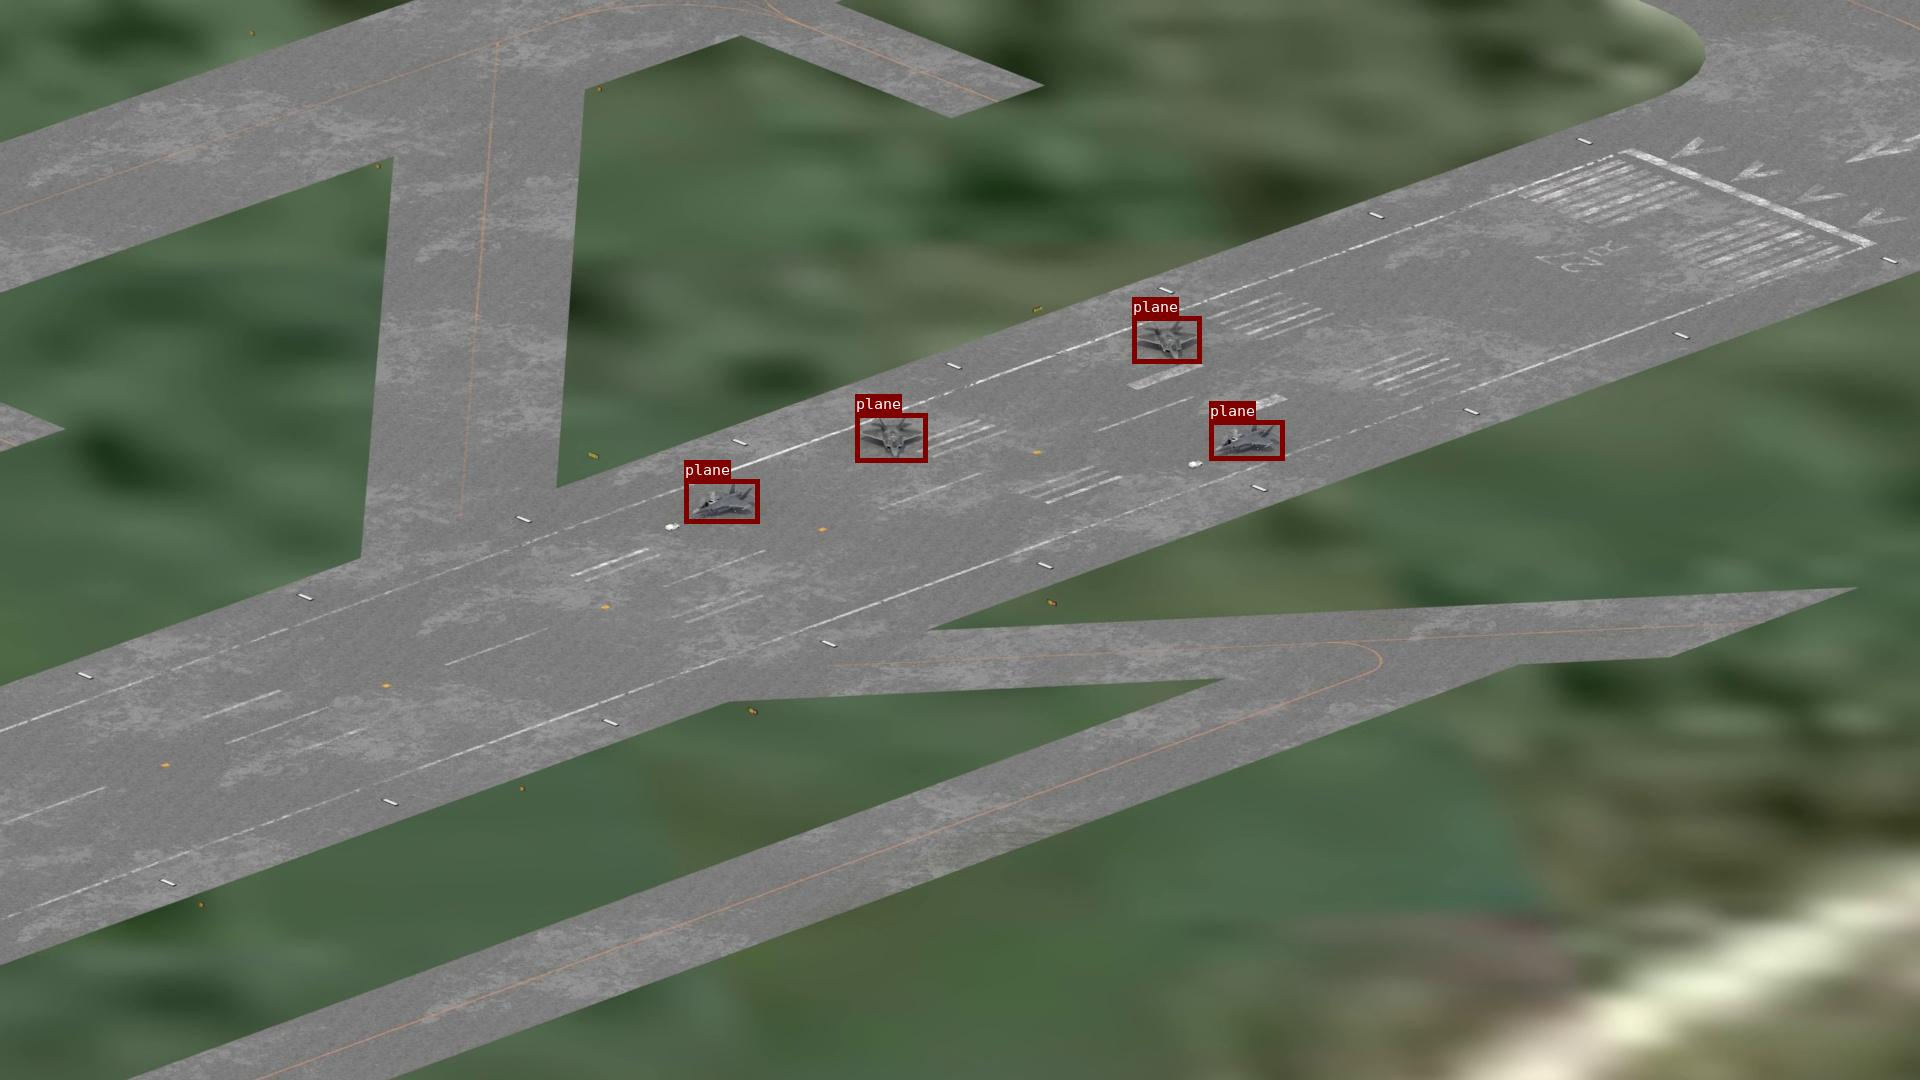plane: (855, 413, 927, 462), (684, 479, 760, 524), (1131, 316, 1201, 363), (1209, 419, 1284, 460)
